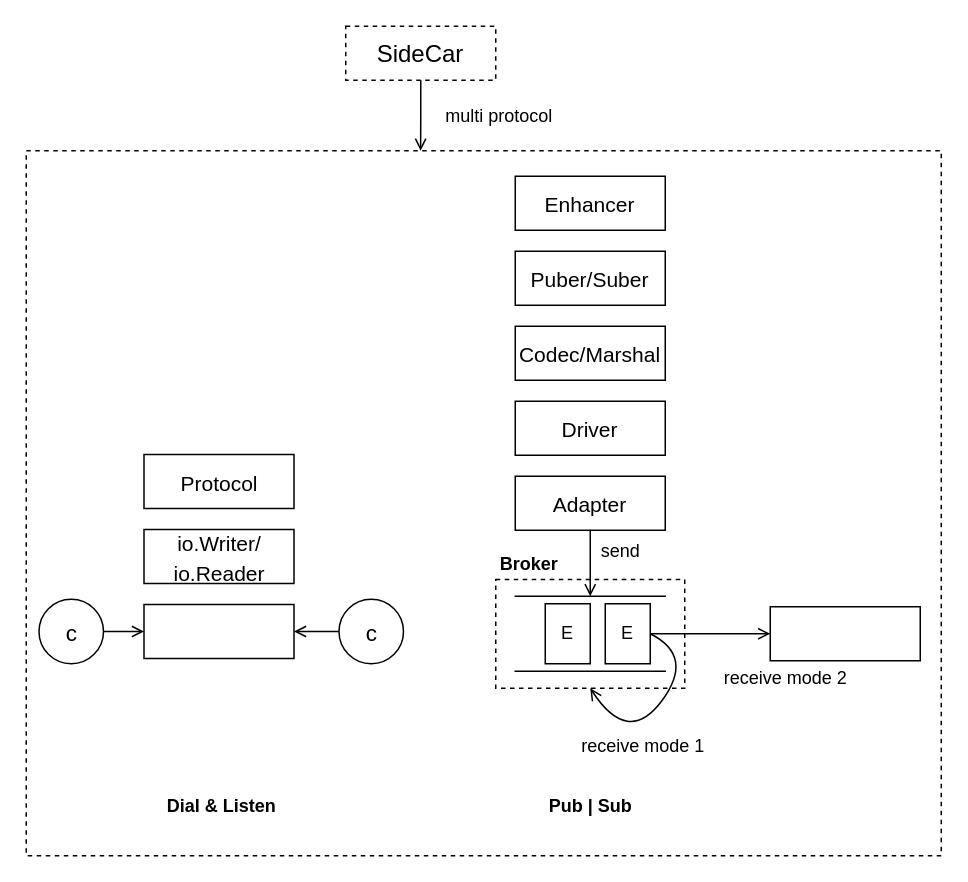
Some shapes in this 968 by 882 pixel diagram are drawn without their labels. Each missing label, with the box of its shape:
Conn/Stream: (142, 603, 294, 658)
Webhook: (769, 605, 920, 661)
